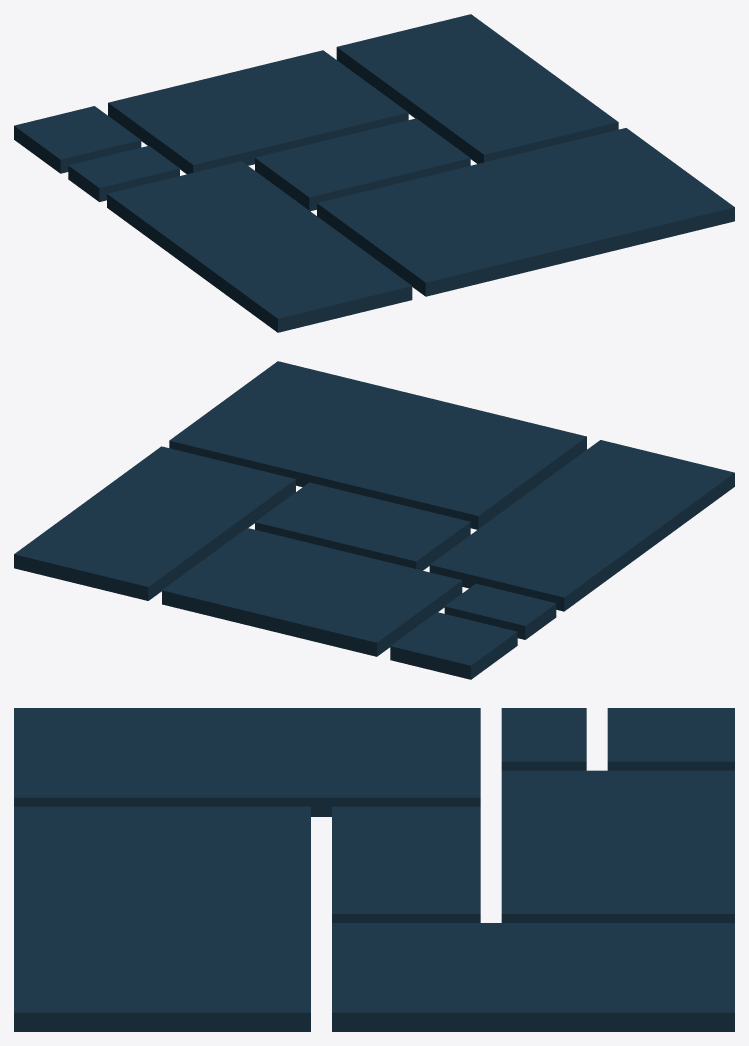
File: Ground_1.dae
3 renders of one model, top to bottom at view 1: azimuth 30°, elevation 25°; view 2: azimuth 150°, elevation 25°; view 3: azimuth 270°, elevation 25°, orthographic. The views are drawn at different scales.
Visible parts, largest first — view 1: Ground_1; view 2: Ground_1; view 3: Ground_1.
Part boxes in pixels (x1,y1,x2,y2): Ground_1: (14, 14, 734, 332); Ground_1: (14, 361, 734, 679); Ground_1: (14, 708, 734, 1031).
Bounding box in the file's own units: 0.85 × 0.85 × 0.025.
